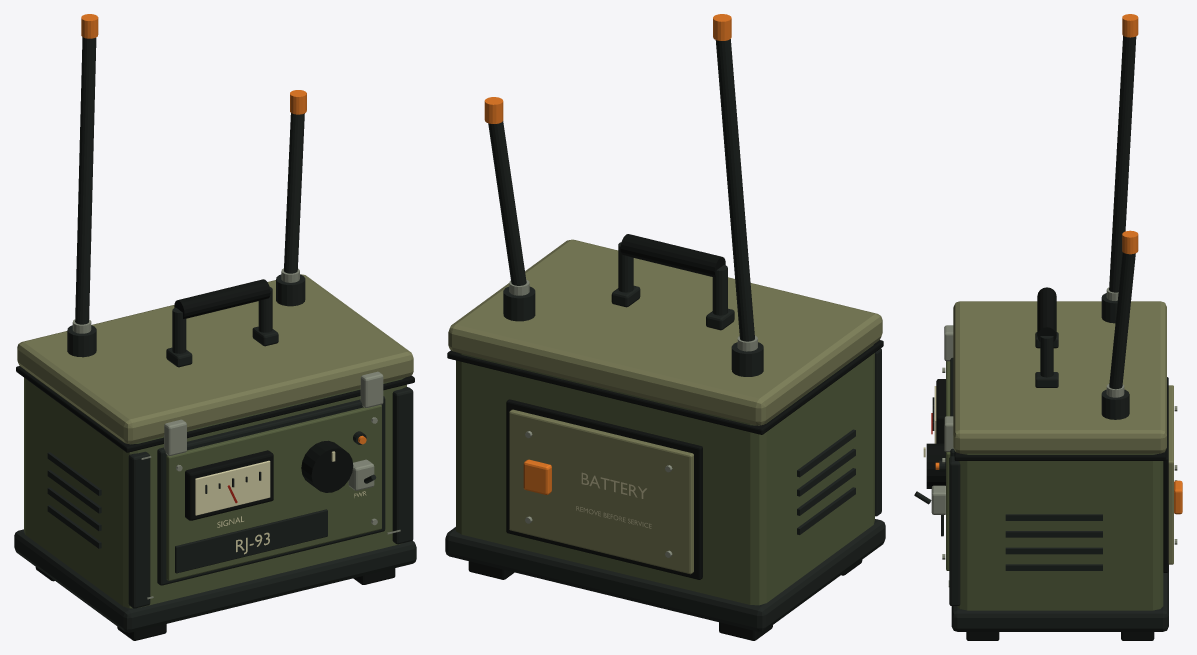
File: MDJ_RJ93.fbx
3 renders of one model, left to right at view 1: azimuth 30°, elevation 25°; view 2: azimuth 150°, elevation 25°; view 3: azimuth 270°, elevation 25°, orthographic. The views are drawn at different scales.
Visible parts, largest first — view 1: MDJ_RJ93; view 2: MDJ_RJ93; view 3: MDJ_RJ93.
Part boxes in pixels (bbox=[...]): MDJ_RJ93: bbox=[14, 14, 416, 640]; MDJ_RJ93: bbox=[445, 14, 885, 640]; MDJ_RJ93: bbox=[914, 14, 1182, 640].
Bounding box in the file's own units: 43.5 × 78.25 × 36.4.
